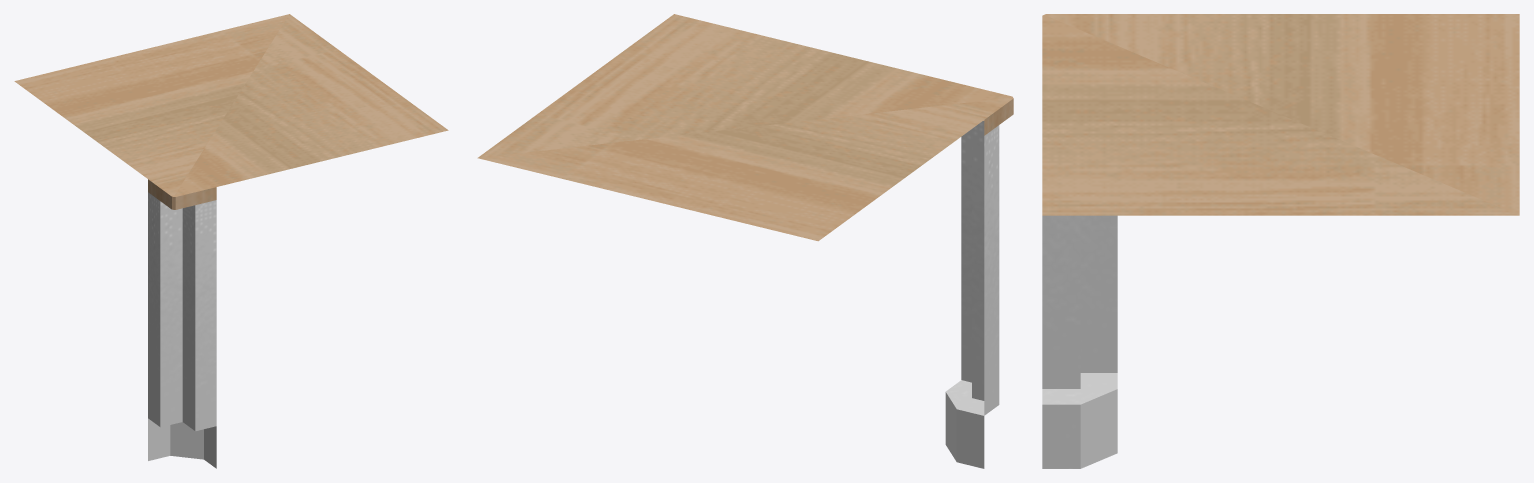
Rendered from Kitchen_Counter_Angle.fbx.
3 views of the same model, side by side, from view 1: azimuth 30°, elevation 25°; view 2: azimuth 150°, elevation 25°; view 3: azimuth 270°, elevation 25° (orthographic). The views are drawn at different scales.
Visible parts, largest first — view 1: Cuisine_Comptoir_Gauche.017; view 2: Cuisine_Comptoir_Gauche.017; view 3: Cuisine_Comptoir_Gauche.017.
Part boxes in pixels (<box>): Cuisine_Comptoir_Gauche.017: <box>14,14,448,468</box>; Cuisine_Comptoir_Gauche.017: <box>477,14,1013,468</box>; Cuisine_Comptoir_Gauche.017: <box>1042,14,1519,468</box>.
Bounding box in the file's own units: 90 × 88 × 90.
